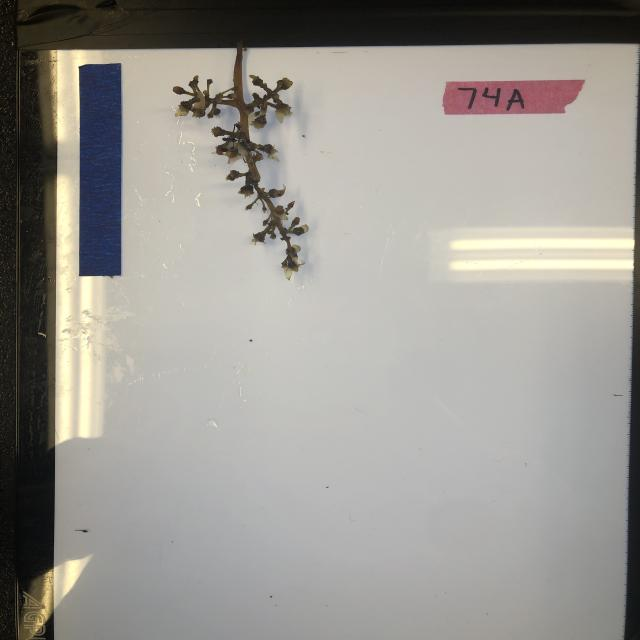index: (440, 78, 587, 115)
measure_label: (77, 62, 123, 277)
rachis_cluster: (171, 36, 325, 278)
